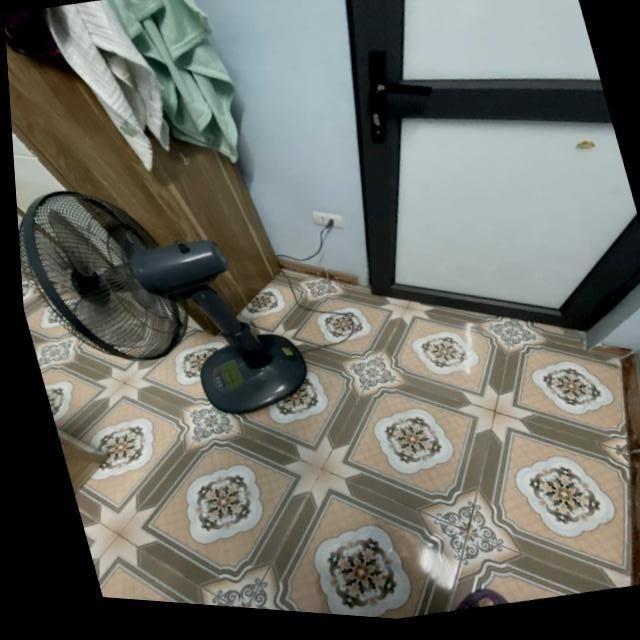outlet: (312, 204, 348, 235)
